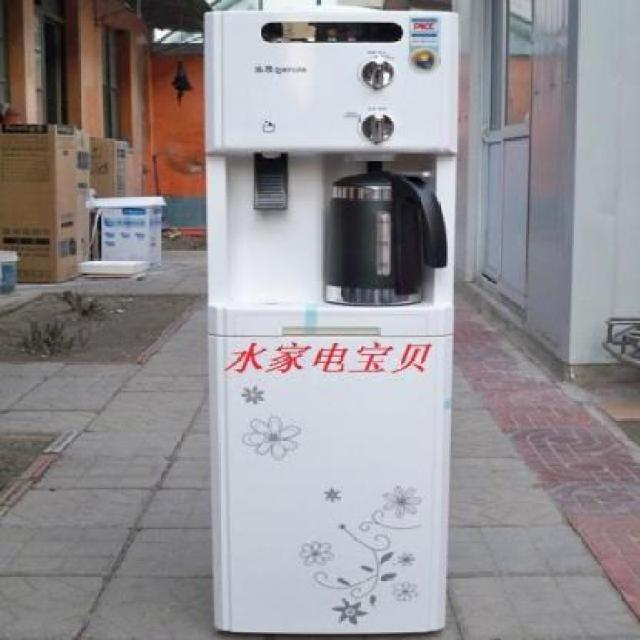cooler: (196, 1, 469, 640)
